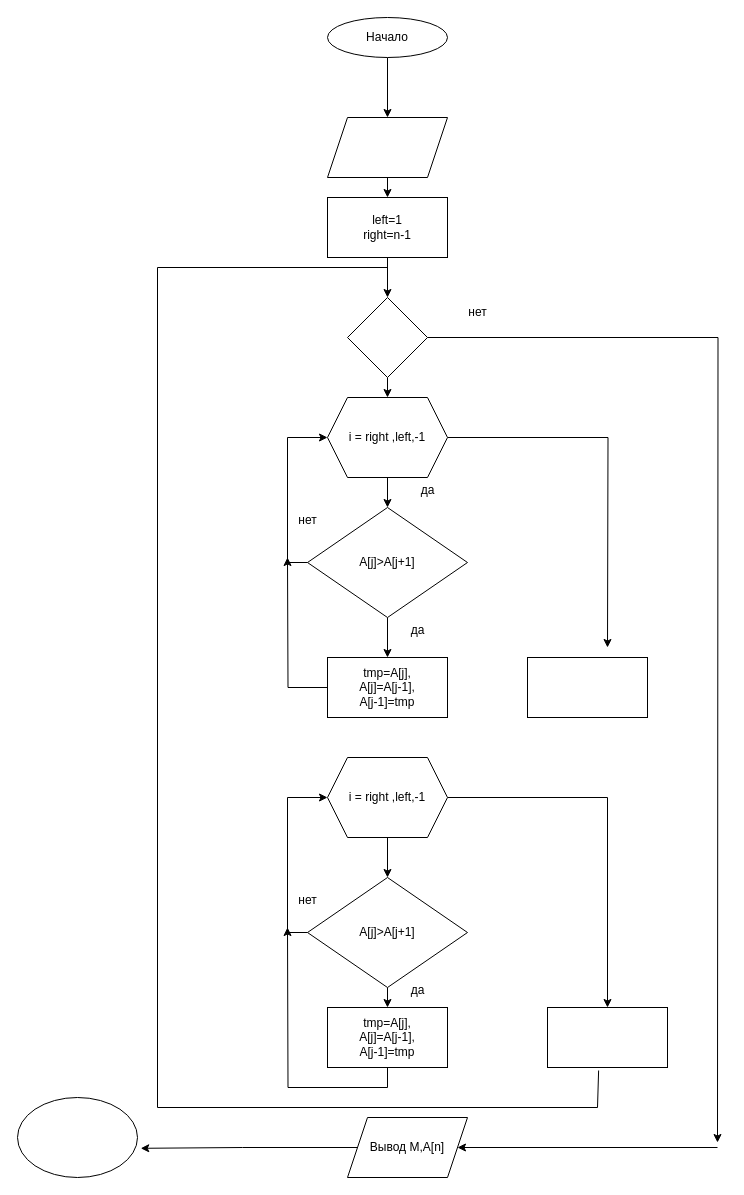
Some shapes in this 744 by 1195 pixel diagram are drawn without their labels. The shapes that lost their labels are listed below. From the top down, each one's box as (x1, y1, x2, y2) in pixels, then its label:
(326, 116, 448, 178): Ввод числа
(346, 296, 428, 378): left<=right
(526, 656, 648, 718): left=left-1
(546, 1006, 668, 1068): right=right-1
(16, 1096, 138, 1178): конец
